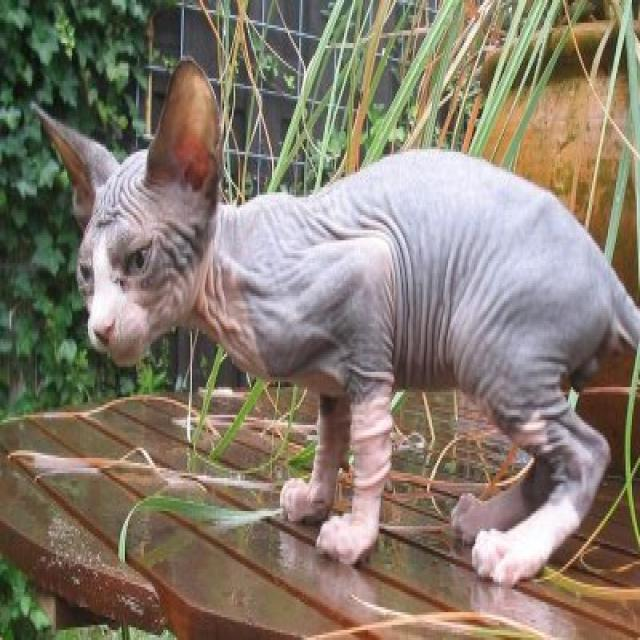Sphynx: (25, 50, 231, 375)
